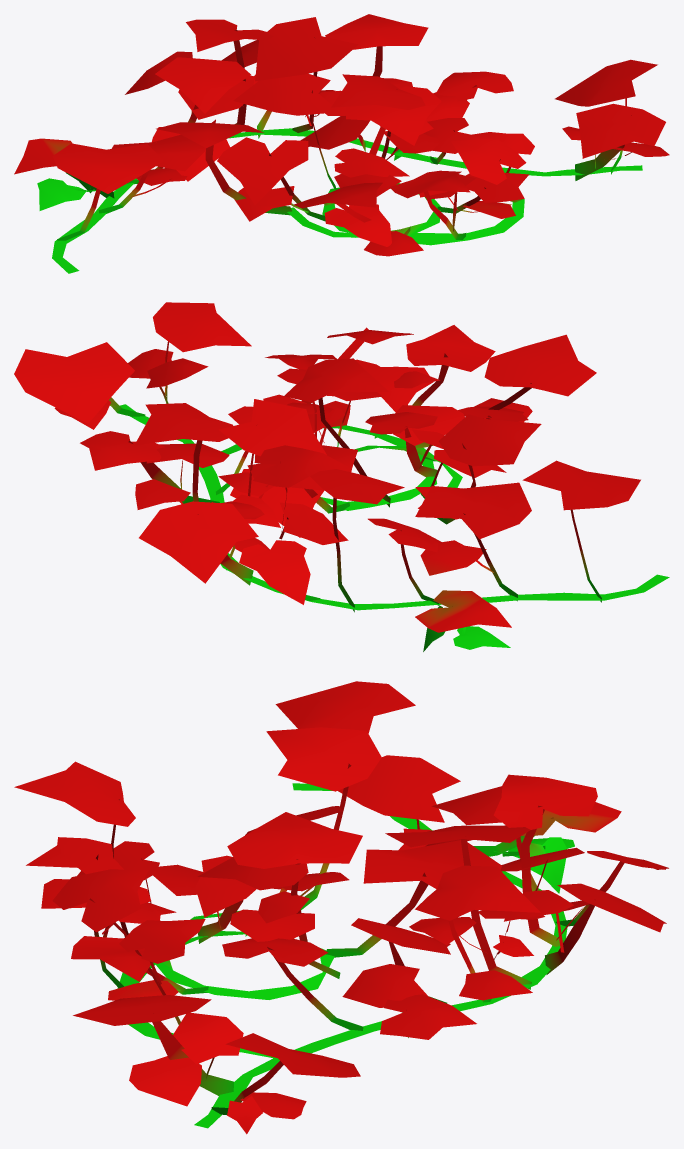
Rendered from Var3_LOD2.fbx.
3 views of the same model, one above another, from view 1: azimuth 30°, elevation 25°; view 2: azimuth 150°, elevation 25°; view 3: azimuth 270°, elevation 25° (orthographic). The views are drawn at different scales.
Visible parts, largest first — view 1: _br2c_Var3_LOD2; view 2: _br2c_Var3_LOD2; view 3: _br2c_Var3_LOD2.
Boxes of the visible parts, left/top/right/bottom form: _br2c_Var3_LOD2: left=14, top=14, right=669, bottom=273; _br2c_Var3_LOD2: left=14, top=302, right=669, bottom=651; _br2c_Var3_LOD2: left=14, top=681, right=668, bottom=1134.
Bounding box in the file's own units: 59.79 × 13.56 × 44.07.
